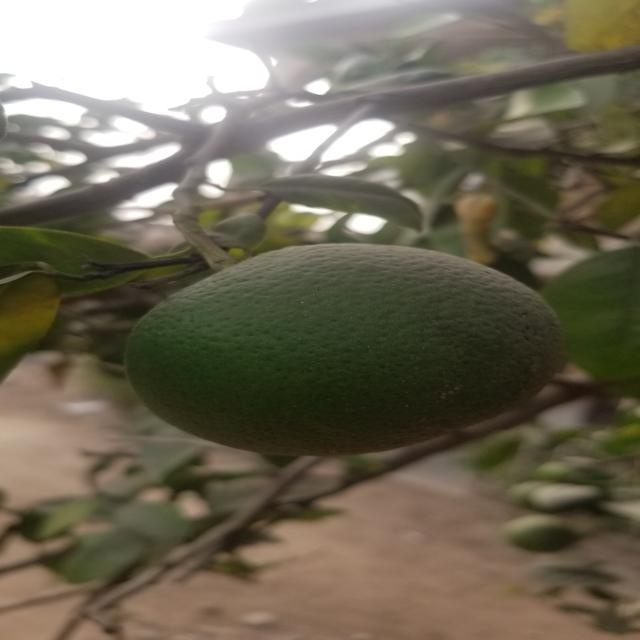agrume: (124, 238, 585, 457)
